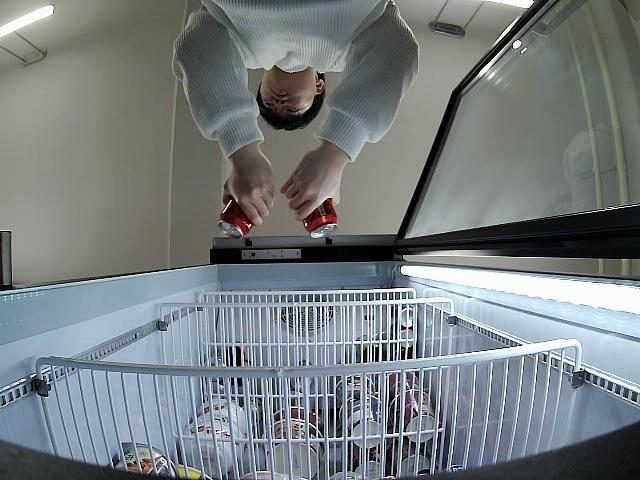11_cocaColaZero: (300, 195, 337, 239), (219, 197, 252, 239)
